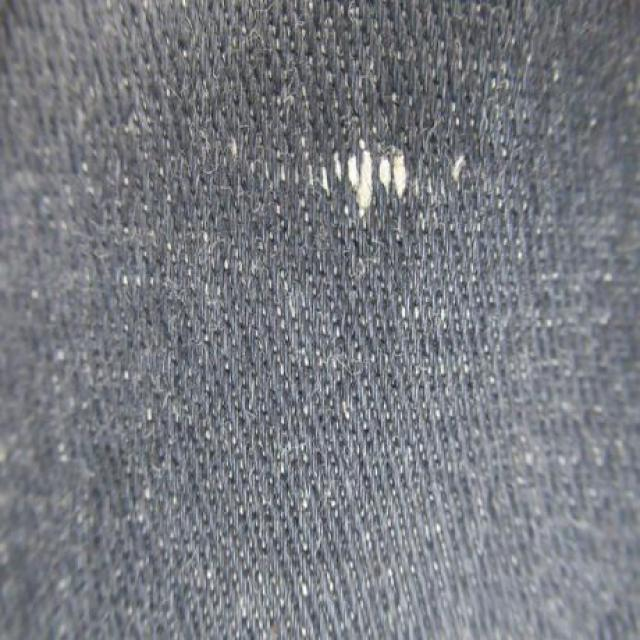stains: (201, 105, 502, 300)
